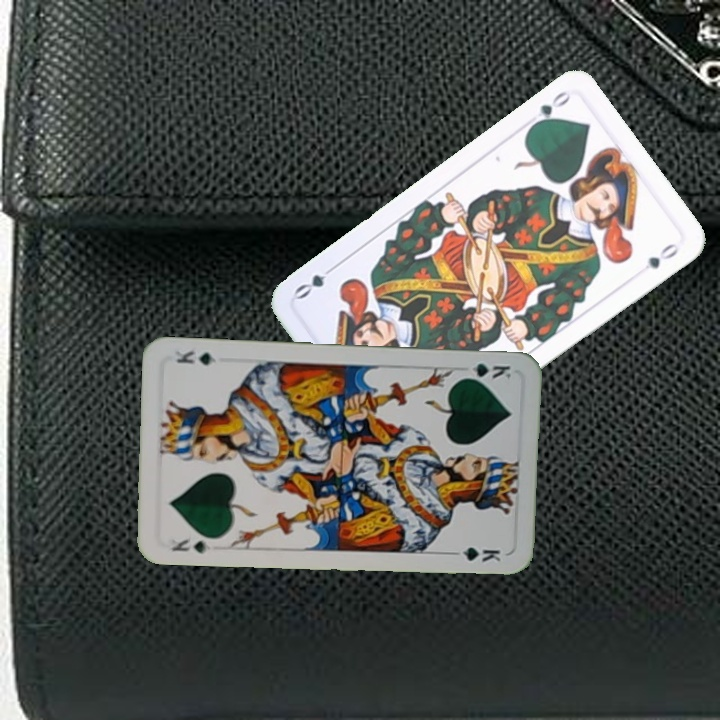GK: (456, 359, 514, 382), (168, 535, 214, 556)
GO: (521, 86, 574, 132)
